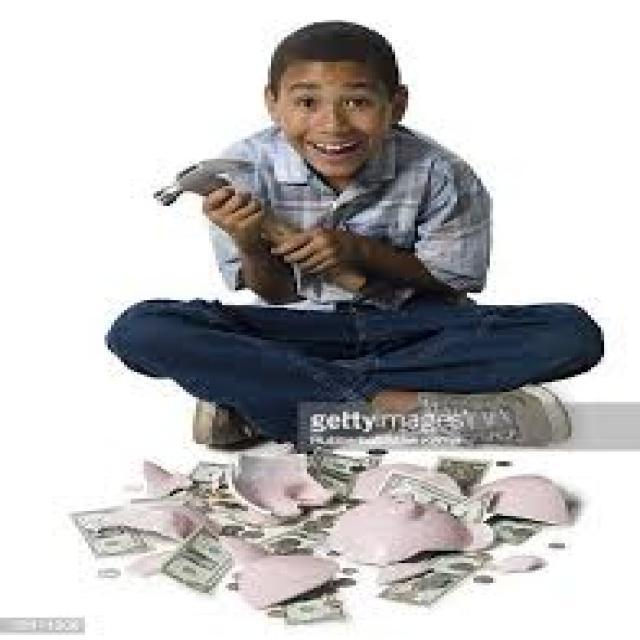hammer: (144, 152, 372, 296)
